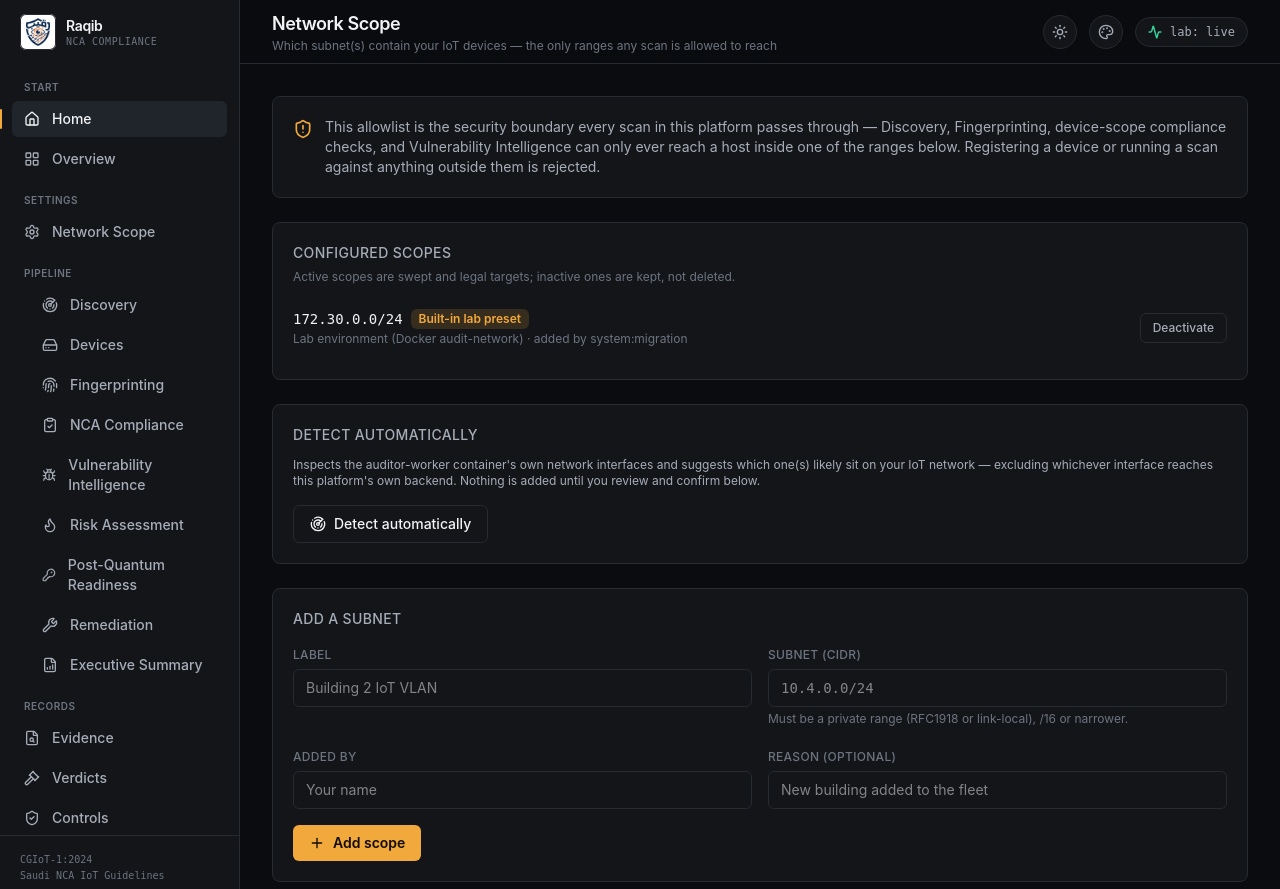
Scenario: NetworkScopePage › adds a custom subnet and refreshes the list
Check: the text "172.30.0.0/24" is shown, box [293,309,403,329]
Step 1. Type "New VLAN" into the field labelled "Label" → (522,688), box [293,669,752,707]
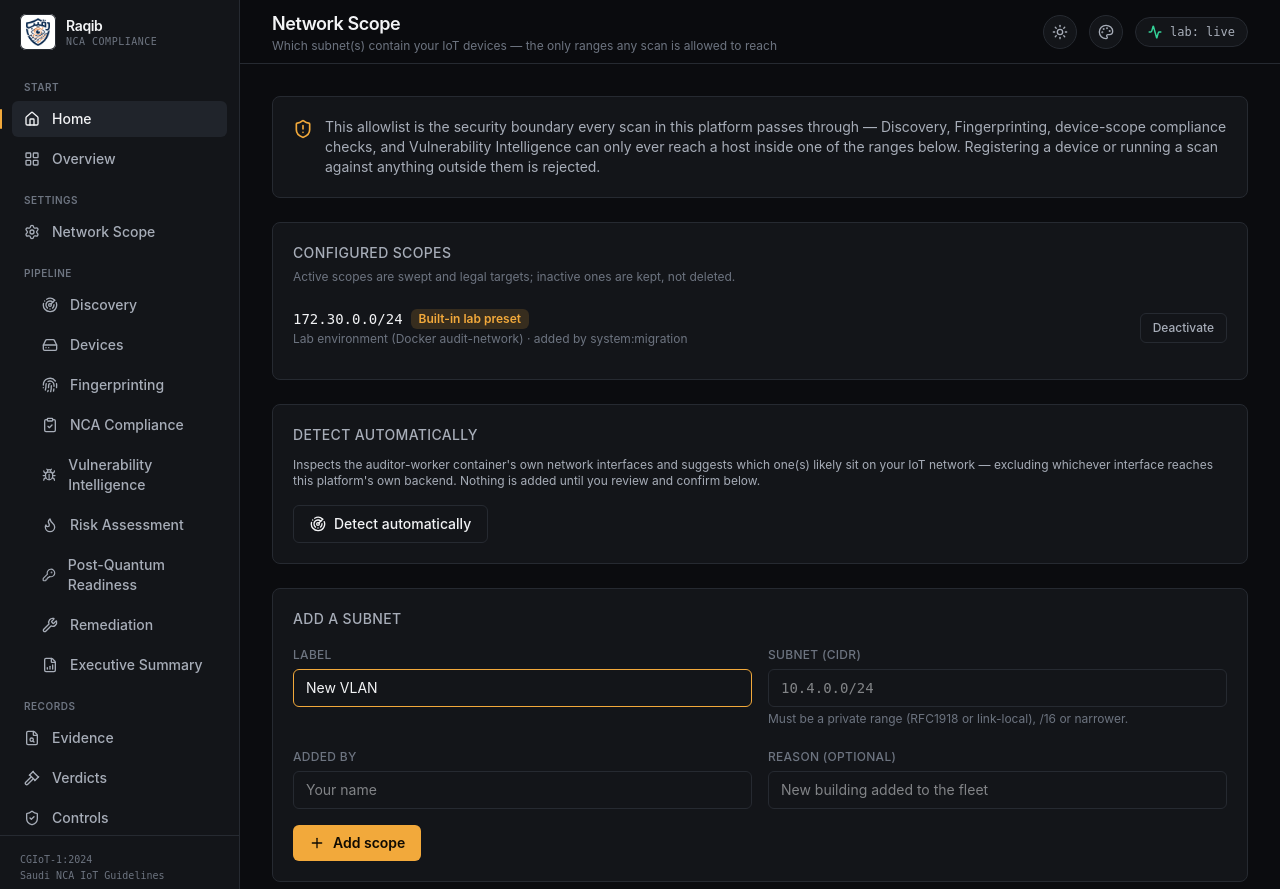
Step 2. Type "10.5.0.0/24" into the field labelled "Subnet (CIDR)" → (998,688), box [768,669,1227,707]
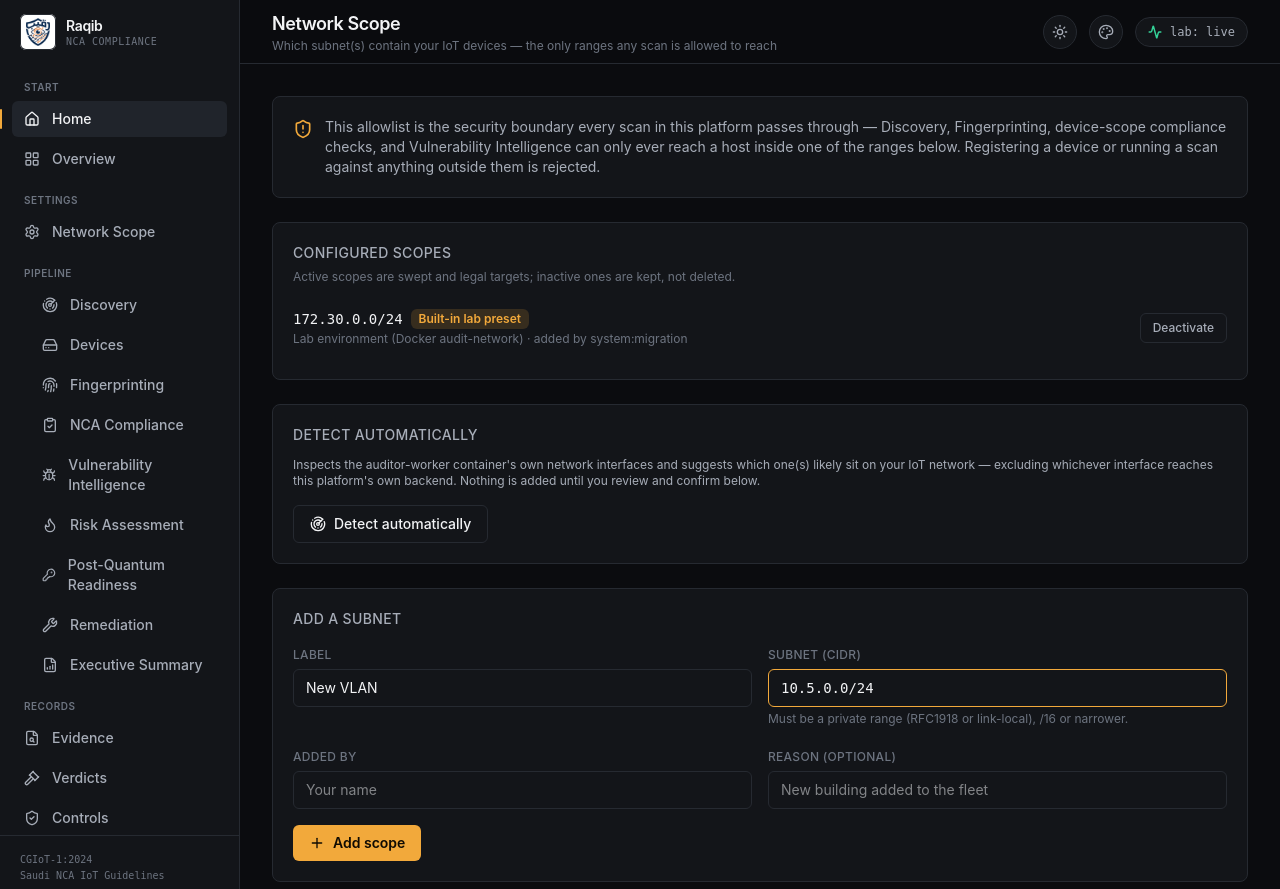
Step 3. Type "auditor" into the field labelled "Added by" → (522,790), box [293,771,752,809]
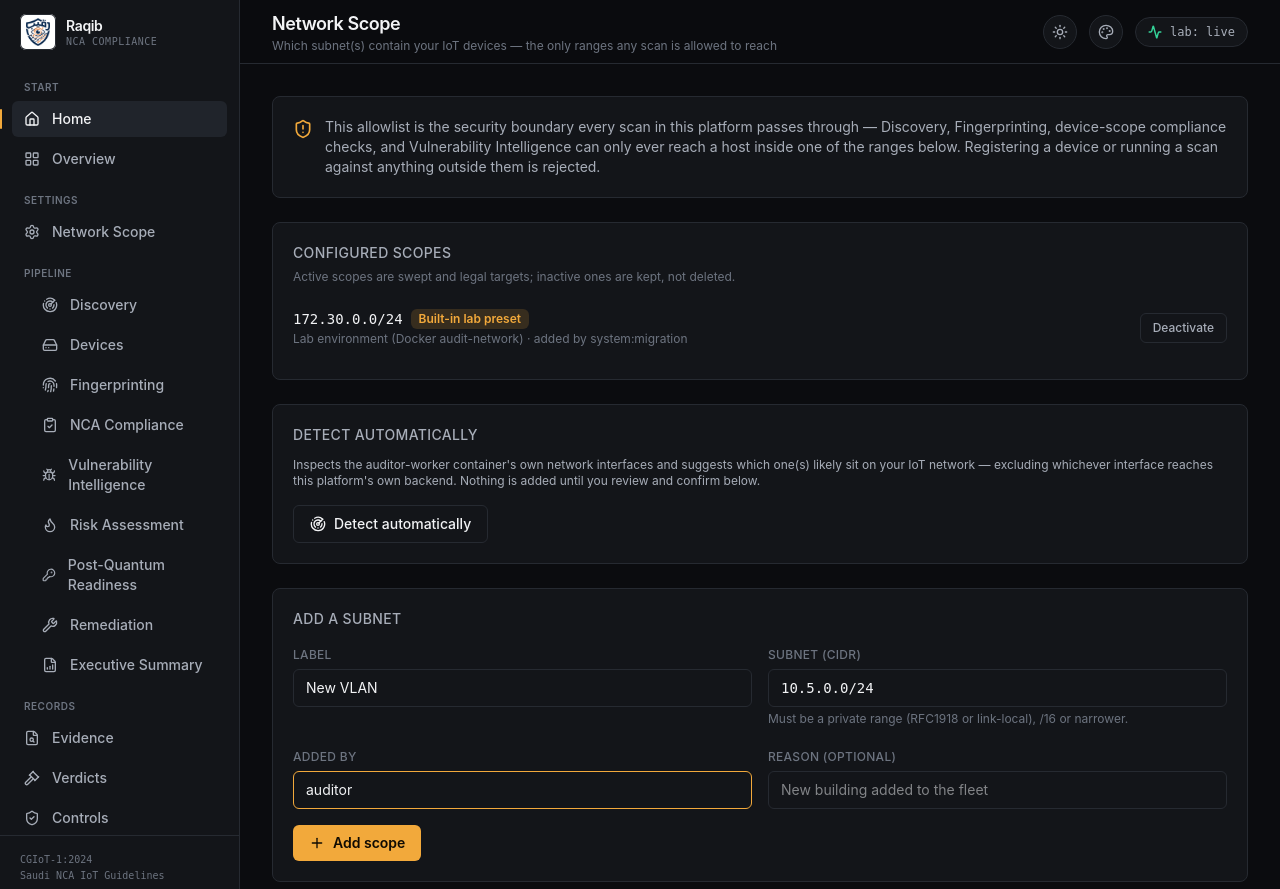
Step 4. Click the button "Add scope" → (357,843), box [293,825,421,861]
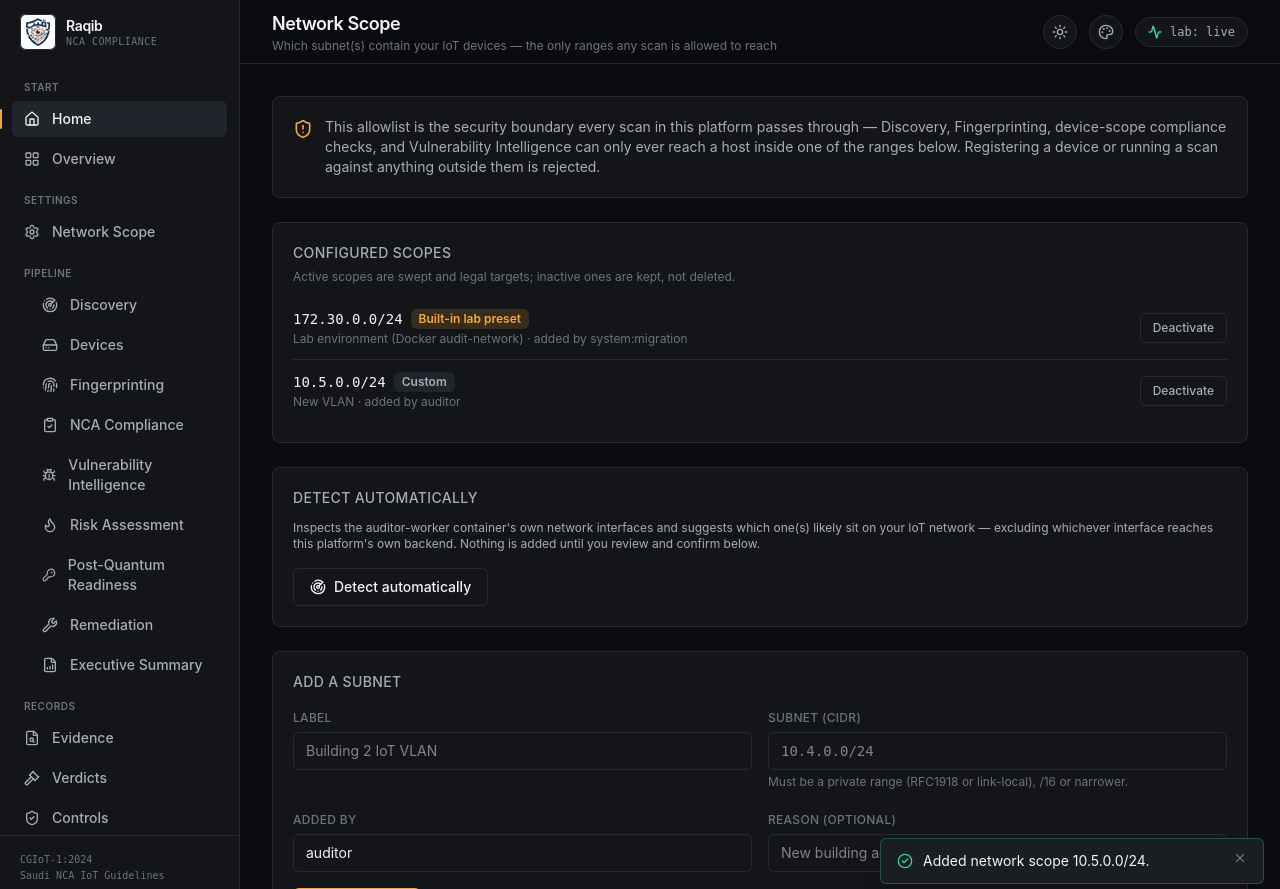
Check: the text "10.5.0.0/24" is shown, box [293,372,386,392]
